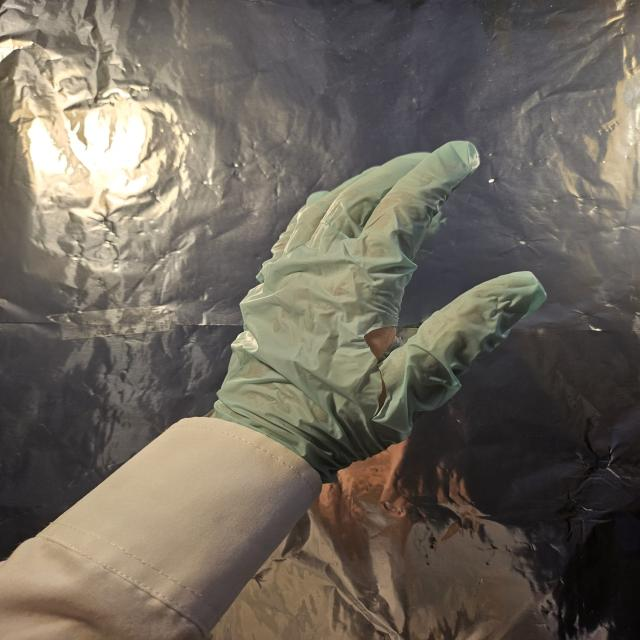gloves_damaged: (202, 140, 555, 469)
